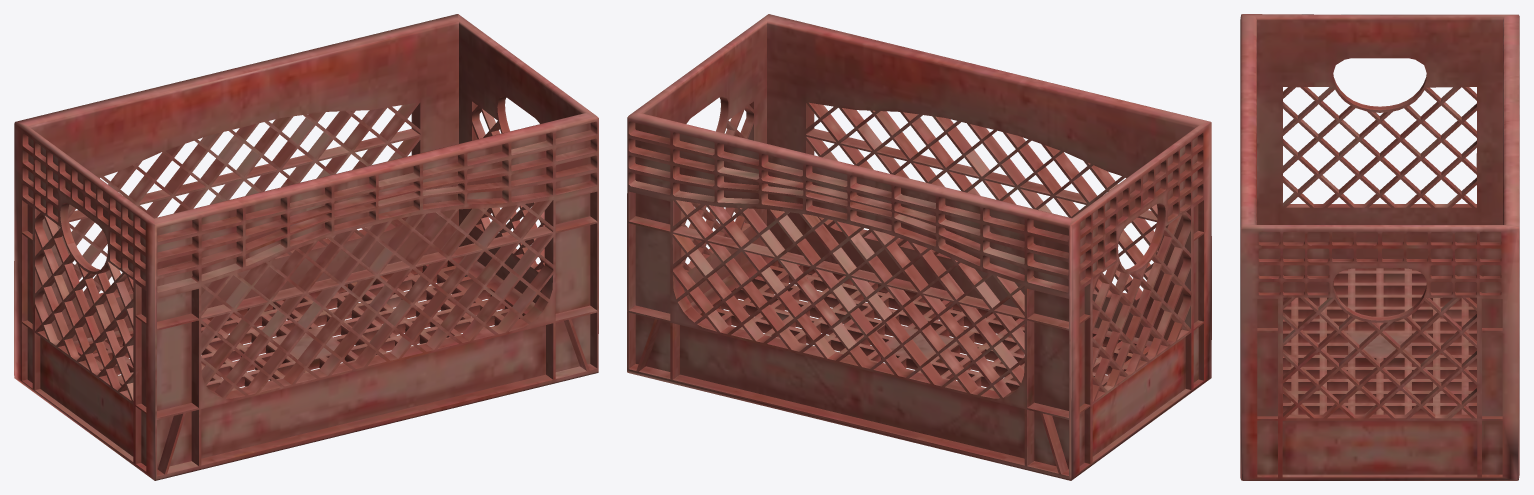
Rendered from plastic_crate_03.glb.
The picture shows the model from 3 angles, left to right: view 1: azimuth 30°, elevation 25°; view 2: azimuth 150°, elevation 25°; view 3: azimuth 270°, elevation 25°; orthographic projection.
Parts seen in each view (by area): view 1: plastic_crate_03; view 2: plastic_crate_03; view 3: plastic_crate_03.
Boxes of the visible parts, bbox=[...] form: plastic_crate_03: bbox=[14, 14, 598, 480]; plastic_crate_03: bbox=[627, 14, 1211, 480]; plastic_crate_03: bbox=[1240, 14, 1519, 480].
Bounding box in the file's own units: 0.4811 × 0.266 × 0.265.
1 material, 1 textured.
